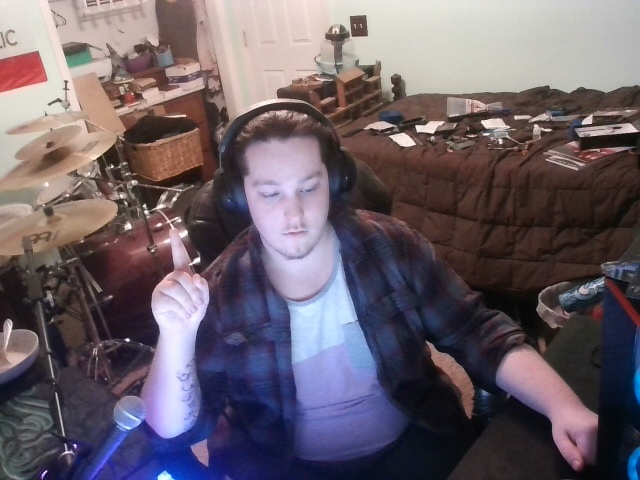up: (124, 213, 230, 341)
